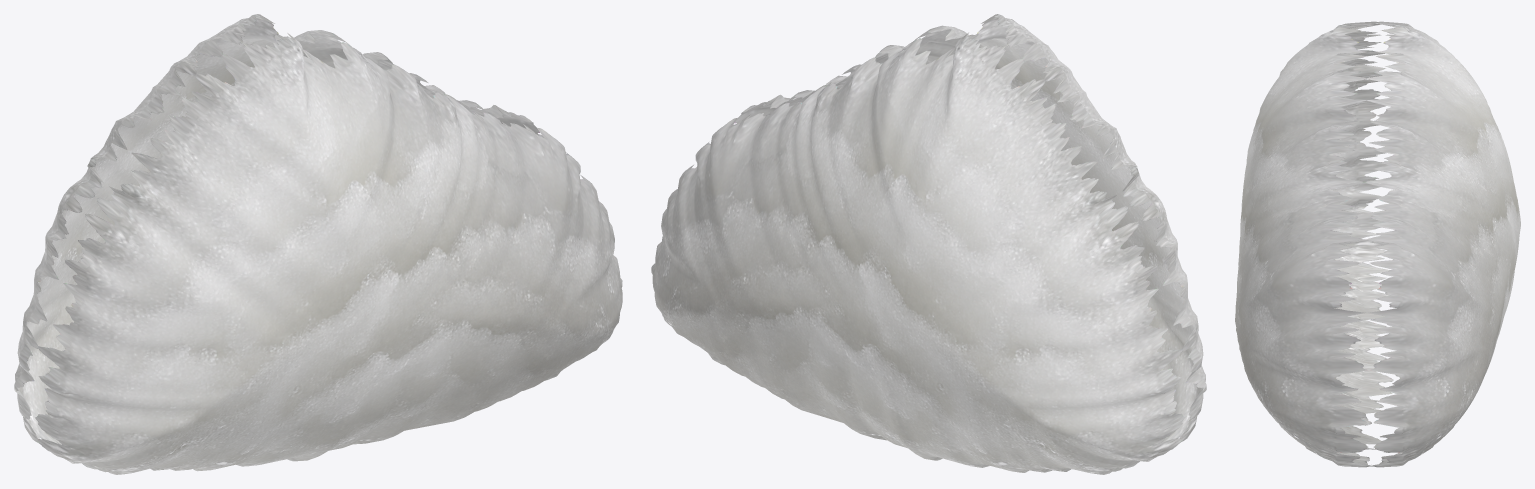
File: smirnoff-vodka.glb
3 views of the same model, side by side, from view 1: azimuth 30°, elevation 25°; view 2: azimuth 150°, elevation 25°; view 3: azimuth 270°, elevation 25° (orthographic). The views are drawn at different scales.
Visible parts, largest first — view 1: smirnoff-vodka; view 2: smirnoff-vodka; view 3: smirnoff-vodka.
Boxes of the visible parts, bbox=[...] form: smirnoff-vodka: bbox=[14, 14, 622, 474]; smirnoff-vodka: bbox=[651, 14, 1206, 474]; smirnoff-vodka: bbox=[1235, 21, 1520, 467].
Size of the model in its own units: 1.98 by 1.48 by 1.03.
1 material, 1 textured.
